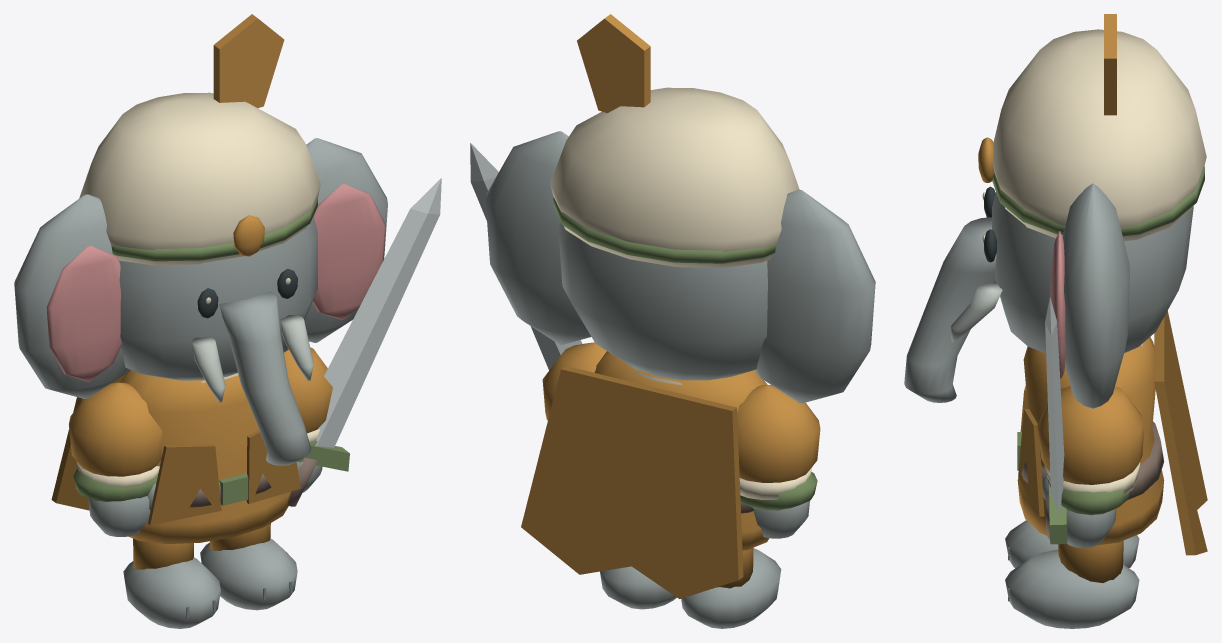
File: giant.glb
3 renders of one model, left to right at view 1: azimuth 30°, elevation 25°; view 2: azimuth 150°, elevation 25°; view 3: azimuth 270°, elevation 25°, orthographic. The views are drawn at different scales.
Visible parts, largest first — view 1: Layered cloth turban, Animal cheek head, Short folded tunic, Elephant broad ear, Shaped bevel sword, Curved elephant trunk, Elephant ear lining, Elephant ear lining.001, Puff sleeve, Soft animal paw, Soft animal paw.001, Turban fan (+16 smaller); view 2: Short scalloped cape, Layered cloth turban, Animal cheek head, Elephant broad ear, Elephant broad ear.001, Puff sleeve, Turban fan, Soft animal paw, Short folded tunic, Turban wrapping, Soft animal paw.001, Shaped bevel sword (+4 smaller); view 3: Layered cloth turban, Elephant broad ear.001, Animal cheek head, Curved elephant trunk, Puff sleeve.001, Short folded tunic, Soft animal paw.001, Short scalloped cape, Shaped bevel sword, Stubby trouser.001, Turban wrapping, Soft animal paw (+10 smaller).
Part boxes in pixels (left/top/right/bottom): Layered cloth turban: left=79, top=92, right=320, bottom=265; Animal cheek head: left=119, top=216, right=317, bottom=380; Short folded tunic: left=119, top=369, right=290, bottom=543; Elephant broad ear: left=14, top=194, right=128, bottom=398; Shaped bevel sword: left=315, top=178, right=441, bottom=447; Curved elephant trunk: left=219, top=291, right=311, bottom=465; Elephant ear lining: left=46, top=245, right=122, bottom=381; Elephant ear lining.001: left=312, top=183, right=385, bottom=319; Puff sleeve: left=69, top=382, right=162, bottom=476; Soft animal paw: left=123, top=557, right=220, bottom=628; Soft animal paw.001: left=200, top=538, right=297, bottom=610; Turban fan: left=213, top=14, right=284, bottom=107; Short scalloped cape: left=521, top=366, right=743, bottom=598; Layered cloth turban: left=550, top=87, right=799, bottom=268; Animal cheek head: left=558, top=222, right=767, bottom=380; Elephant broad ear: left=754, top=189, right=875, bottom=403; Elephant broad ear.001: left=485, top=131, right=591, bottom=344; Puff sleeve: left=737, top=385, right=820, bottom=482; Turban fan: left=577, top=14, right=650, bottom=113; Soft animal paw: left=681, top=548, right=781, bottom=628; Short folded tunic: left=594, top=351, right=769, bottom=550; Turban wrapping: left=553, top=197, right=776, bottom=263; Soft animal paw.001: left=600, top=566, right=676, bottom=609; Shaped bevel sword: left=470, top=143, right=582, bottom=370; Layered cloth turban: left=992, top=29, right=1206, bottom=241; Elephant broad ear.001: left=1062, top=183, right=1130, bottom=408; Animal cheek head: left=992, top=192, right=1193, bottom=353; Curved elephant trunk: left=904, top=217, right=996, bottom=402; Puff sleeve.001: left=1037, top=386, right=1144, bottom=484; Short folded tunic: left=1017, top=337, right=1164, bottom=545; Soft animal paw.001: left=1005, top=549, right=1139, bottom=628; Short scalloped cape: left=1154, top=311, right=1207, bottom=555; Shaped bevel sword: left=1045, top=297, right=1064, bottom=512; Stubby trouser.001: left=1058, top=540, right=1123, bottom=582; Turban wrapping: left=992, top=166, right=1204, bottom=236; Soft animal paw: left=1005, top=520, right=1139, bottom=568.
Size of the model in its own units: 1.93 by 2.58 by 1.14.
